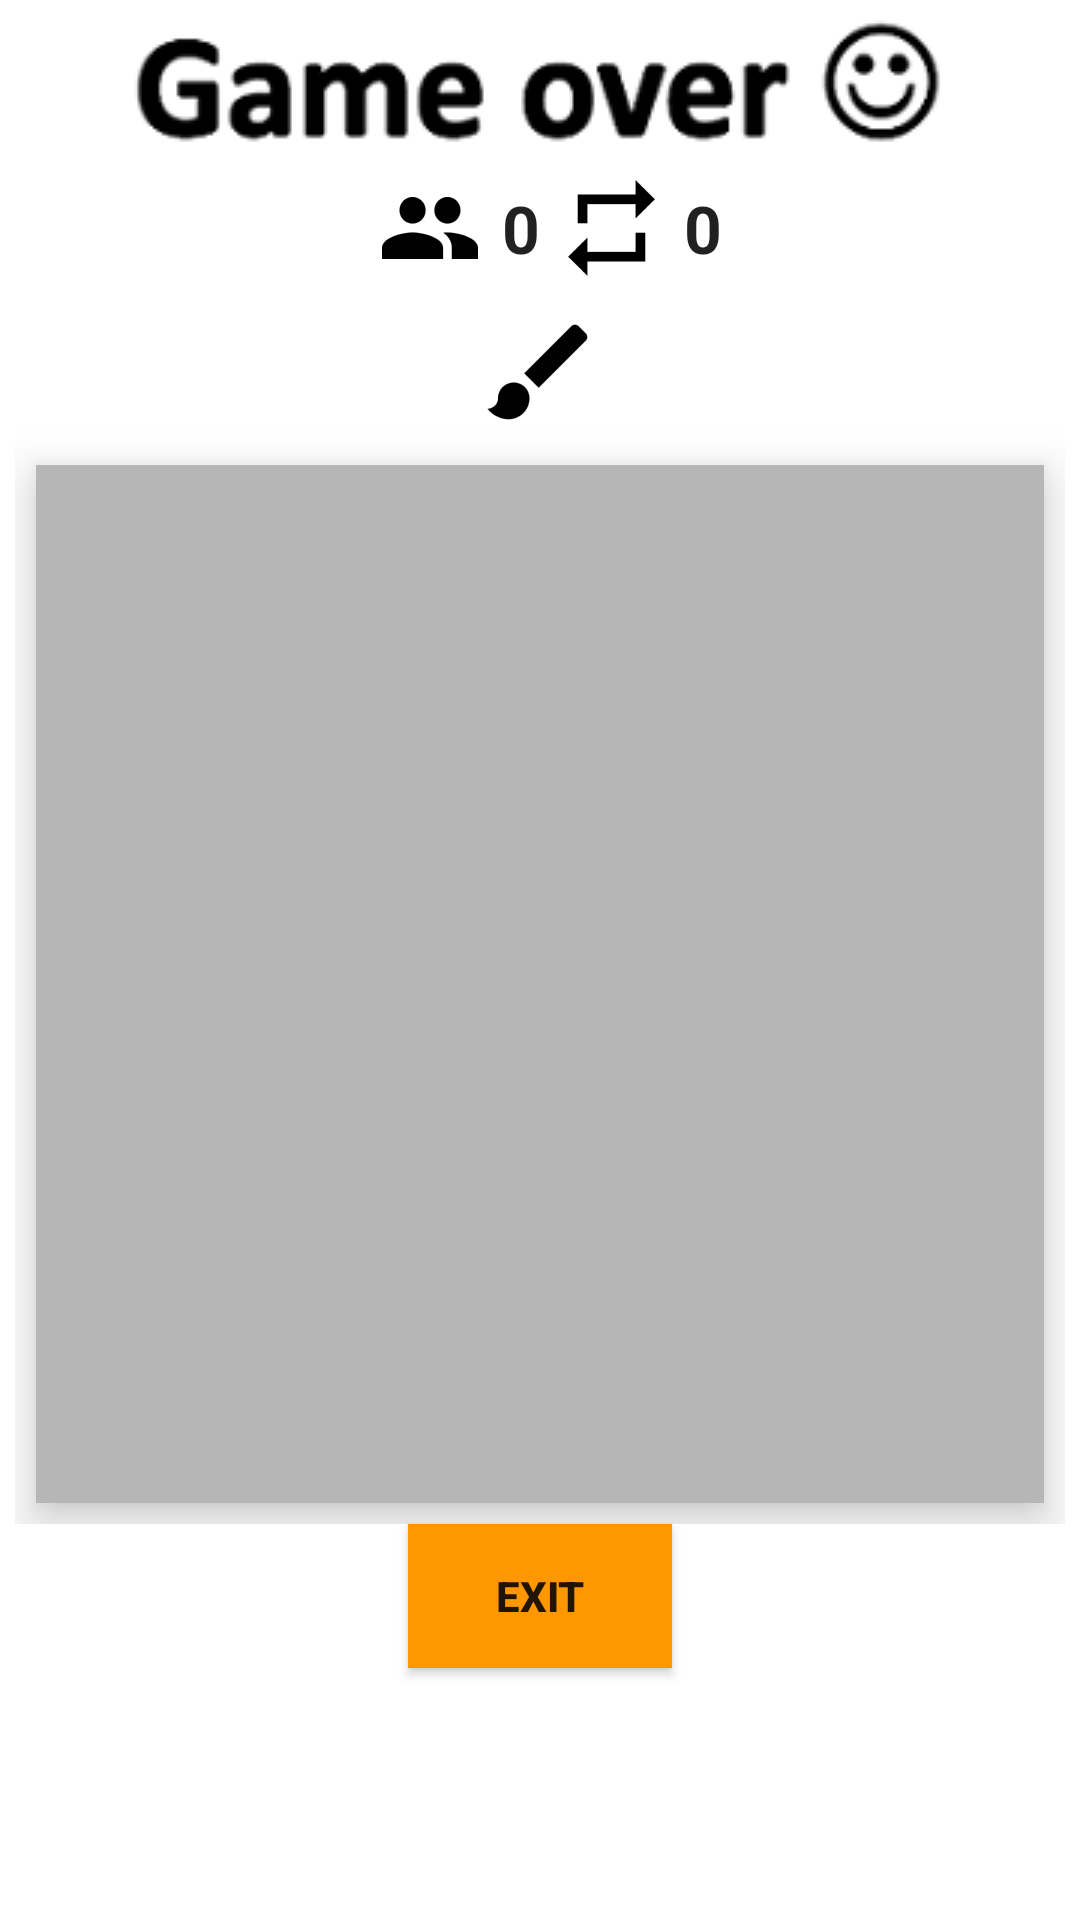

Locate icon controls on the screen. Image size 1080px x 1920px, boxes as (x1, y1, x2, y2).
av repeat: (568, 180, 655, 276)
social people: (382, 197, 478, 259)
